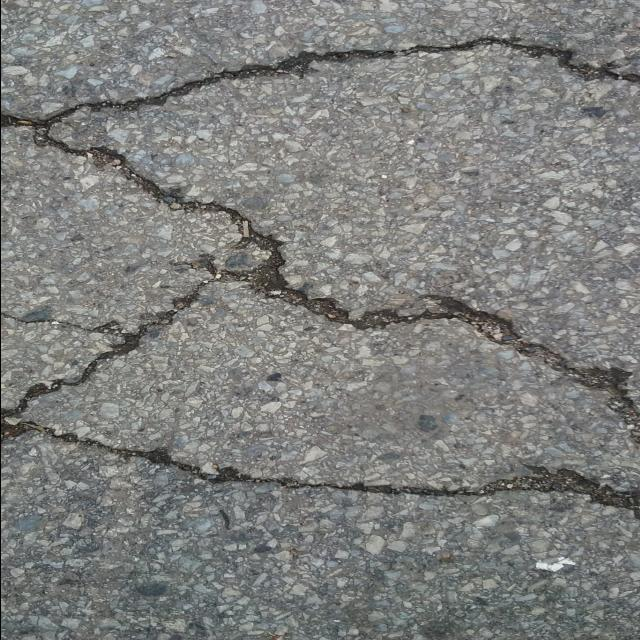Crack: (0, 37, 640, 518)
